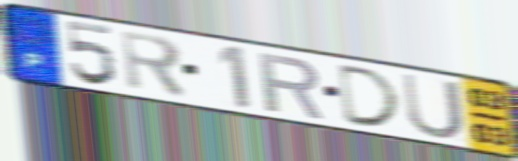1: (216, 43, 253, 112)
5: (64, 18, 120, 88)
D: (336, 62, 406, 130)
R: (118, 28, 190, 101), (256, 49, 327, 122)
U: (399, 71, 468, 142)
